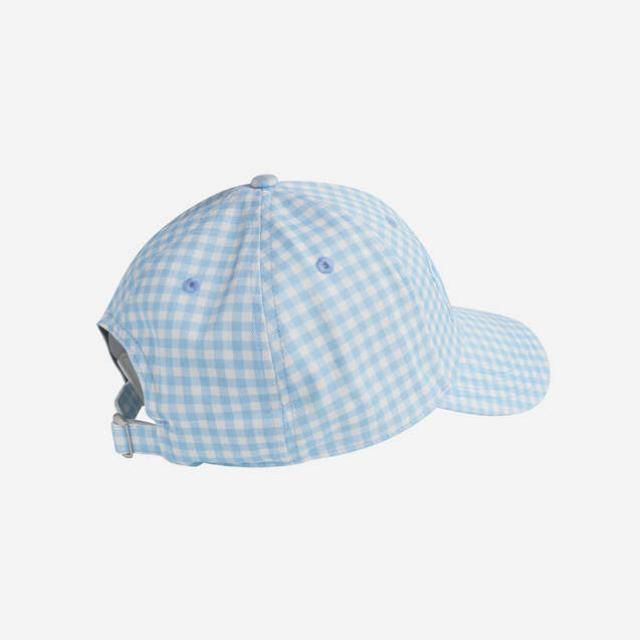Nonhelmet: (94, 171, 552, 470)
